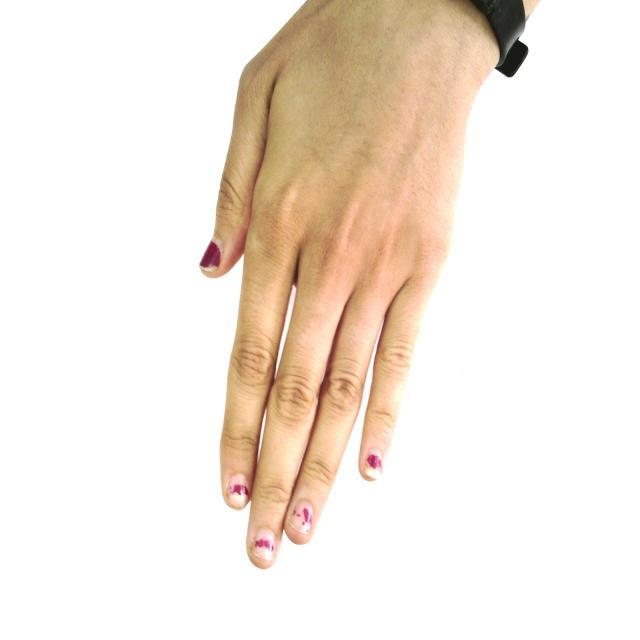Fingernail: (253, 529, 276, 562), (291, 503, 312, 538), (228, 476, 248, 508), (200, 241, 221, 270), (364, 454, 381, 480)
